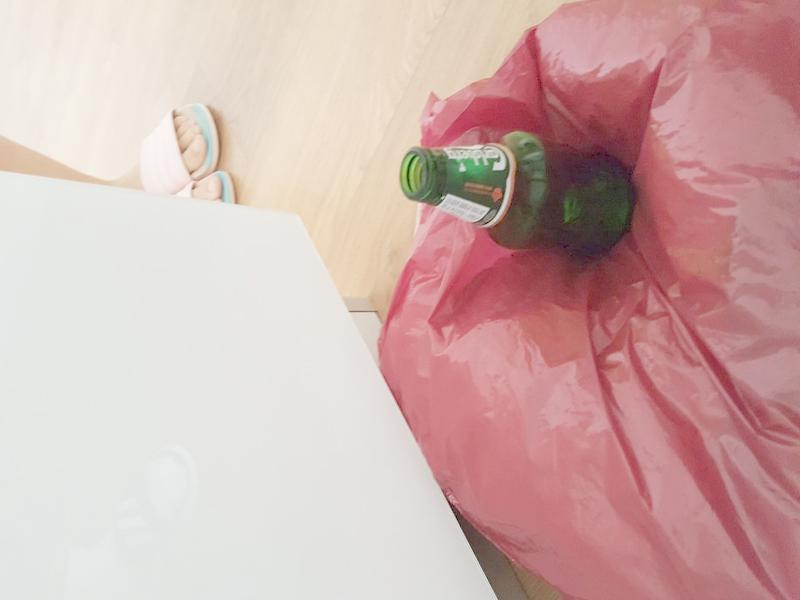Beer: (400, 132, 636, 259)
